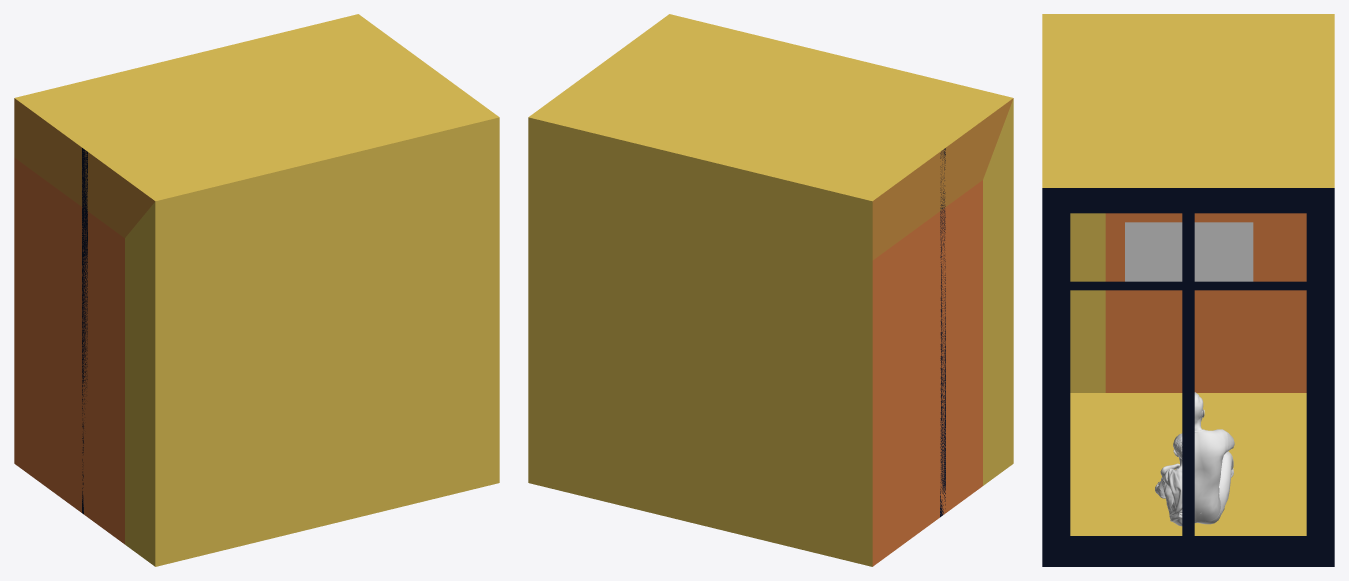
File: secondRoom.glb
3 views of the same model, side by side, from view 1: azimuth 30°, elevation 25°; view 2: azimuth 150°, elevation 25°; view 3: azimuth 270°, elevation 25° (orthographic). The views are drawn at different scales.
Visible parts, largest first — view 1: room2; view 2: room2; view 3: room2, Adult, 12angrymen, toystory, Boy.
Boxes of the visible parts, bbox=[...] form: room2: bbox=[14, 14, 499, 566]; room2: bbox=[528, 14, 1013, 566]; room2: bbox=[1042, 14, 1334, 566]; Adult: bbox=[1194, 392, 1234, 524]; 12angrymen: bbox=[1194, 222, 1253, 281]; toystory: bbox=[1125, 222, 1182, 281]; Boy: bbox=[1155, 433, 1182, 526].
Bounding box in the file's own units: 2 × 2.03 × 1.42.
